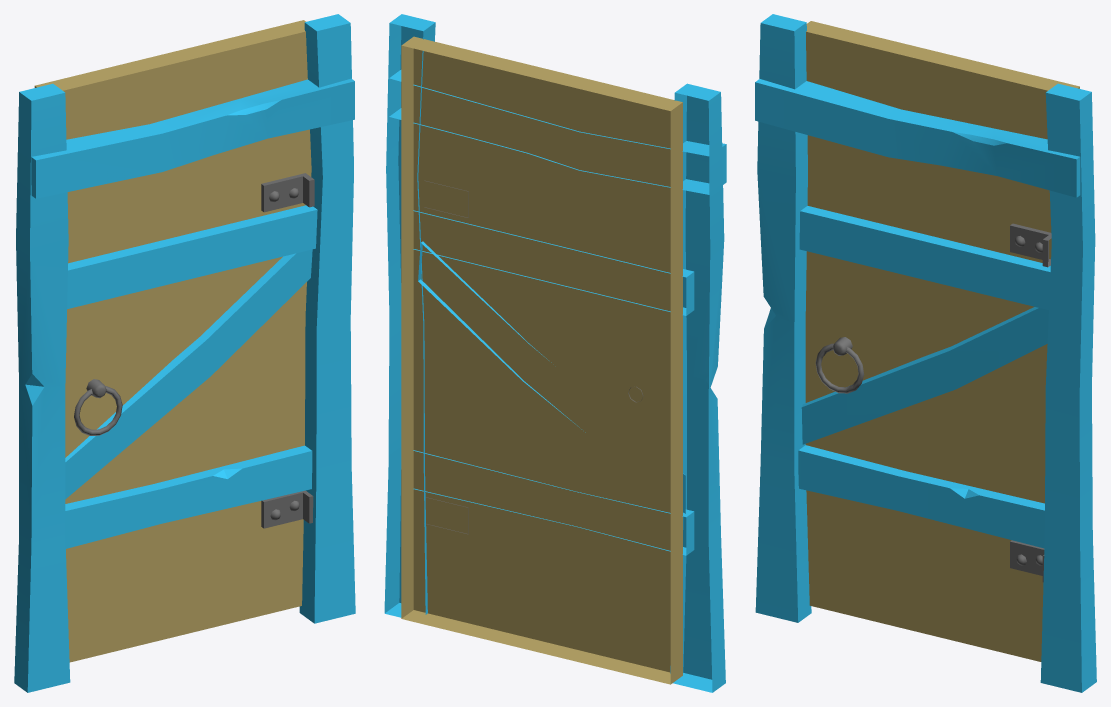
Rendered from Wooden_doors.fbx.
The picture shows the model from 3 angles, left to right: view 1: azimuth 30°, elevation 25°; view 2: azimuth 150°, elevation 25°; view 3: azimuth 330°, elevation 25°; orthographic projection.
Visible parts, largest first — view 1: Mesh (3); view 2: Mesh (3); view 3: Mesh (3).
Part boxes in pixels (box(x1,y1,x2,y2)): Mesh (3): box(14, 14, 355, 692); Mesh (3): box(384, 14, 726, 692); Mesh (3): box(755, 14, 1096, 692).
Bounding box in the file's own units: 276 × 475 × 41.74.
